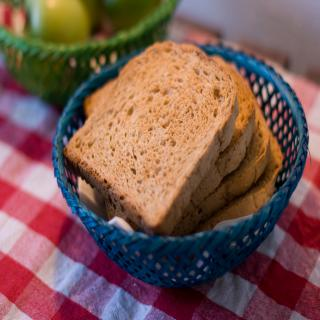Bread: (54, 49, 271, 232)
